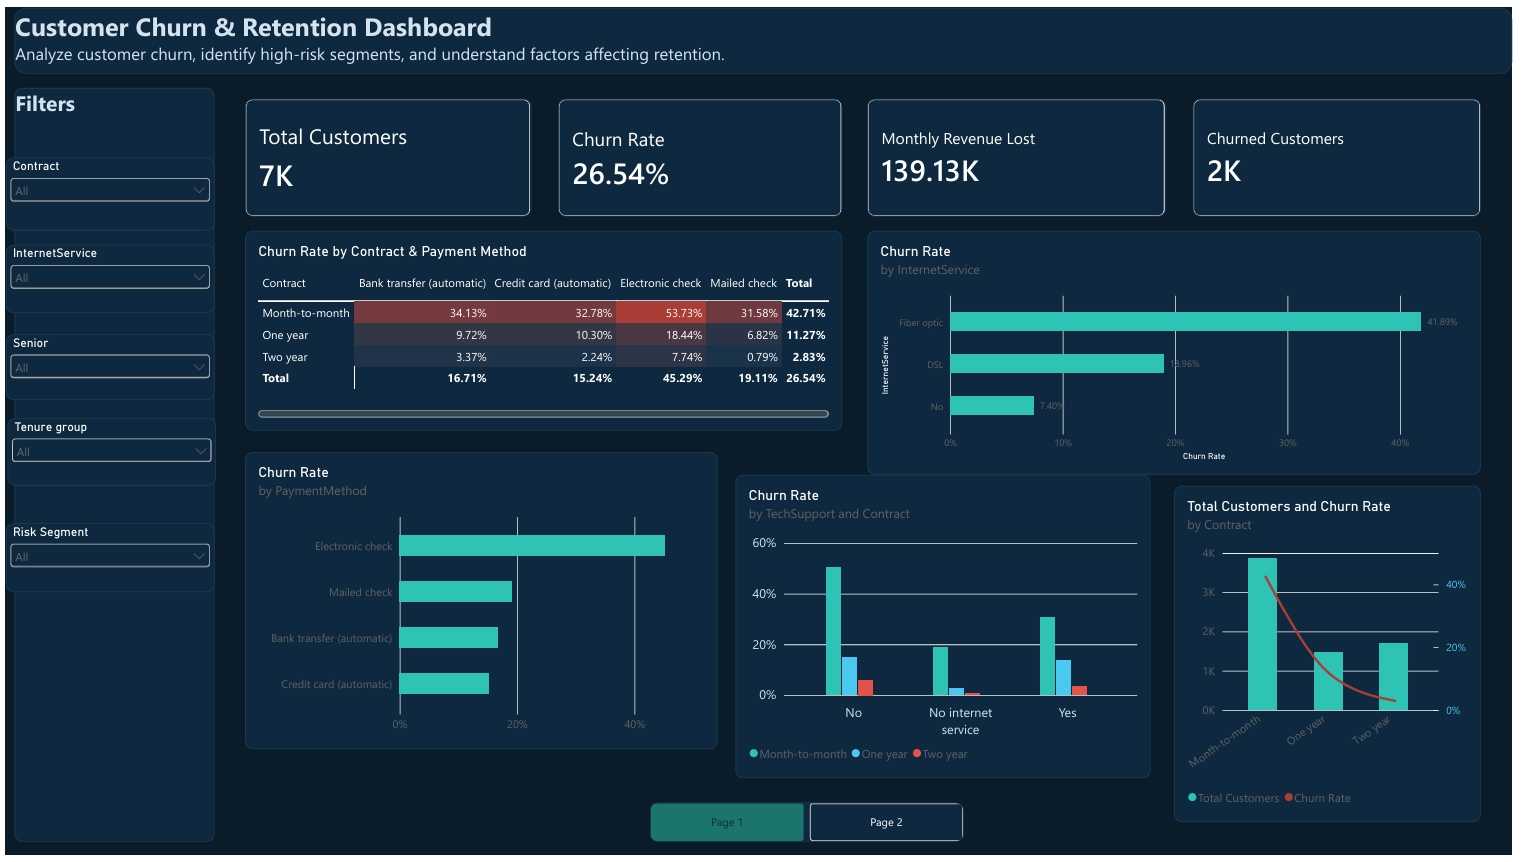

The page's visual inventory and layout, read from the dashboard file:
{"tool":"powerbi","page":{"name":"Page 1","canvas":[1920,1080],"ordinal":0},"visuals":[{"type":"textbox","box":[10.7,0,1908.9,83.9],"z":0},{"type":"cardVisual","fields":{"Data":["Telco.Total Customers"]},"box":[305.4,116.1,364.3,150],"z":1},{"type":"cardVisual","fields":{"Data":["Telco.Churn Rate"]},"box":[703.6,116.1,362.5,150],"z":2},{"type":"cardVisual","fields":{"Data":["Telco.Monthly Revenue Lost"]},"box":[1098.2,116.1,380.4,150],"z":4},{"type":"cardVisual","fields":{"Data":["Telco.Churned Customers"]},"box":[1512.5,116.1,367.9,150],"z":5},{"type":"textbox","box":[10.7,101.8,255.4,960.7],"z":6},{"type":"slicer","fields":{"Values":["Telco.Risk Segment"]},"box":[0,657.1,266.1,87.5],"z":7},{"type":"slicer","fields":{"Values":["Telco.Senior"]},"box":[0,416.1,266.1,83.9],"z":8},{"type":"slicer","fields":{"Values":["Telco.Contract"]},"box":[0,191.1,266.1,92.9],"z":9},{"type":"slicer","fields":{"Values":["Telco.InternetService"]},"box":[0,301.8,266.1,87.5],"z":10},{"type":"slicer","fields":{"Values":["Telco.Tenure group"]},"box":[1.8,523.2,266.1,85.7],"z":11},{"type":"pivotTable","title":"Churn Rate by Contract & Payment Method","fields":{"Columns":["Telco.PaymentMethod"],"Rows":["Telco.Contract"],"Values":["Telco.Churn Rate"]},"box":[305.4,283.9,760.7,255.4],"z":12},{"type":"clusteredBarChart","fields":{"Category":["Telco.InternetService"],"Y":["Telco.Churn Rate"]},"box":[1098.2,283.9,782.1,310.7],"z":13},{"type":"clusteredBarChart","fields":{"Category":["Telco.PaymentMethod"],"Y":["Telco.Churn Rate"]},"box":[305.4,566.1,601.8,378.6],"z":14},{"type":"clusteredColumnChart","fields":{"Category":["Telco.TechSupport"],"Series":["Telco.Contract"],"Y":["Telco.Churn Rate"]},"box":[930.4,594.6,528.6,387.5],"z":15},{"type":"lineClusteredColumnComboChart","fields":{"Category":["Telco.Contract"],"Y":["Telco.Total Customers"],"Y2":["Telco.Churn Rate"]},"box":[1489.3,608.9,391.1,428.6],"z":16},{"type":"pageNavigator","box":[821.4,1012.5,400,50],"z":17}]}

Visuals, with their boxes in screenshot pixels (x1, y1, x2, y2), scaled from the page's 1920x1080 canvas onto the 1522x862 screenshot:
textbox: <box>8,0,1521,67</box>
cardVisual - Telco.Total Customers: <box>242,93,531,212</box>
cardVisual - Telco.Churn Rate: <box>558,93,845,212</box>
cardVisual - Telco.Monthly Revenue Lost: <box>871,93,1172,212</box>
cardVisual - Telco.Churned Customers: <box>1199,93,1491,212</box>
textbox: <box>8,81,211,848</box>
slicer - Telco.Risk Segment: <box>0,524,211,594</box>
slicer - Telco.Senior: <box>0,332,211,399</box>
slicer - Telco.Contract: <box>0,153,211,227</box>
slicer - Telco.InternetService: <box>0,241,211,311</box>
slicer - Telco.Tenure group: <box>1,418,212,486</box>
"Churn Rate by Contract & Payment Method" pivotTable: <box>242,227,845,430</box>
clusteredBarChart - Telco.InternetService x Telco.Churn Rate: <box>871,227,1491,475</box>
clusteredBarChart - Telco.PaymentMethod x Telco.Churn Rate: <box>242,452,719,754</box>
clusteredColumnChart - Telco.TechSupport x Telco.Contract: <box>738,475,1157,784</box>
lineClusteredColumnComboChart - Telco.Contract x Telco.Total Customers: <box>1181,486,1491,828</box>
pageNavigator: <box>651,808,968,848</box>
